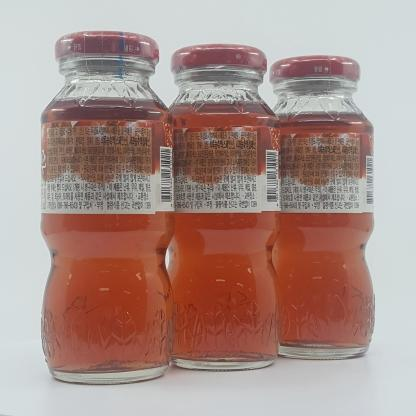-------180ML: (41, 30, 175, 384), (161, 44, 281, 371), (262, 55, 374, 360)
